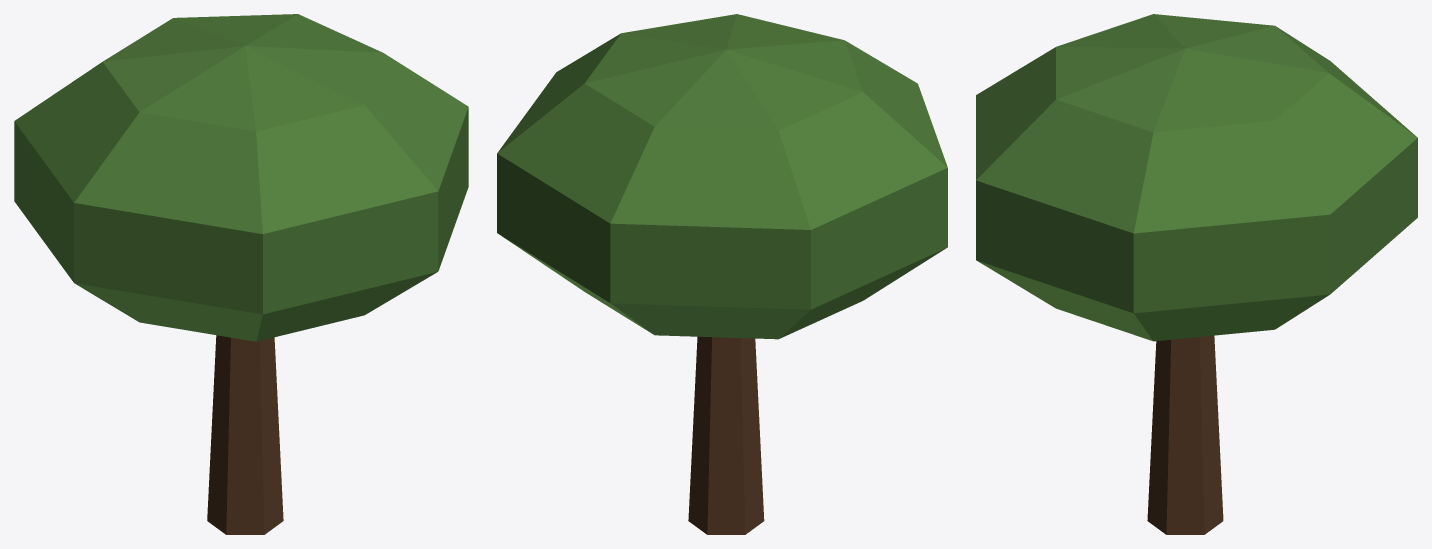
The model's file is br_willow_b_lod1.glb.
3 renders of one model, left to right at view 1: azimuth 30°, elevation 25°; view 2: azimuth 150°, elevation 25°; view 3: azimuth 270°, elevation 25°, orthographic.
Parts seen in each view (by area): view 1: br_willow_b_lod1; view 2: br_willow_b_lod1; view 3: br_willow_b_lod1.
Boxes of the visible parts, left/top/right/bottom form: br_willow_b_lod1: left=14, top=14, right=468, bottom=534; br_willow_b_lod1: left=497, top=14, right=947, bottom=534; br_willow_b_lod1: left=976, top=14, right=1417, bottom=534.
Bounding box in the file's own units: 3.34 × 3.84 × 3.25.
